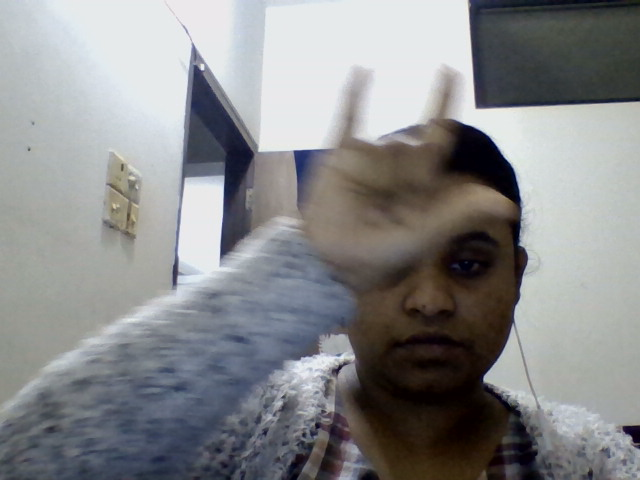I Love You: (295, 50, 524, 331)
